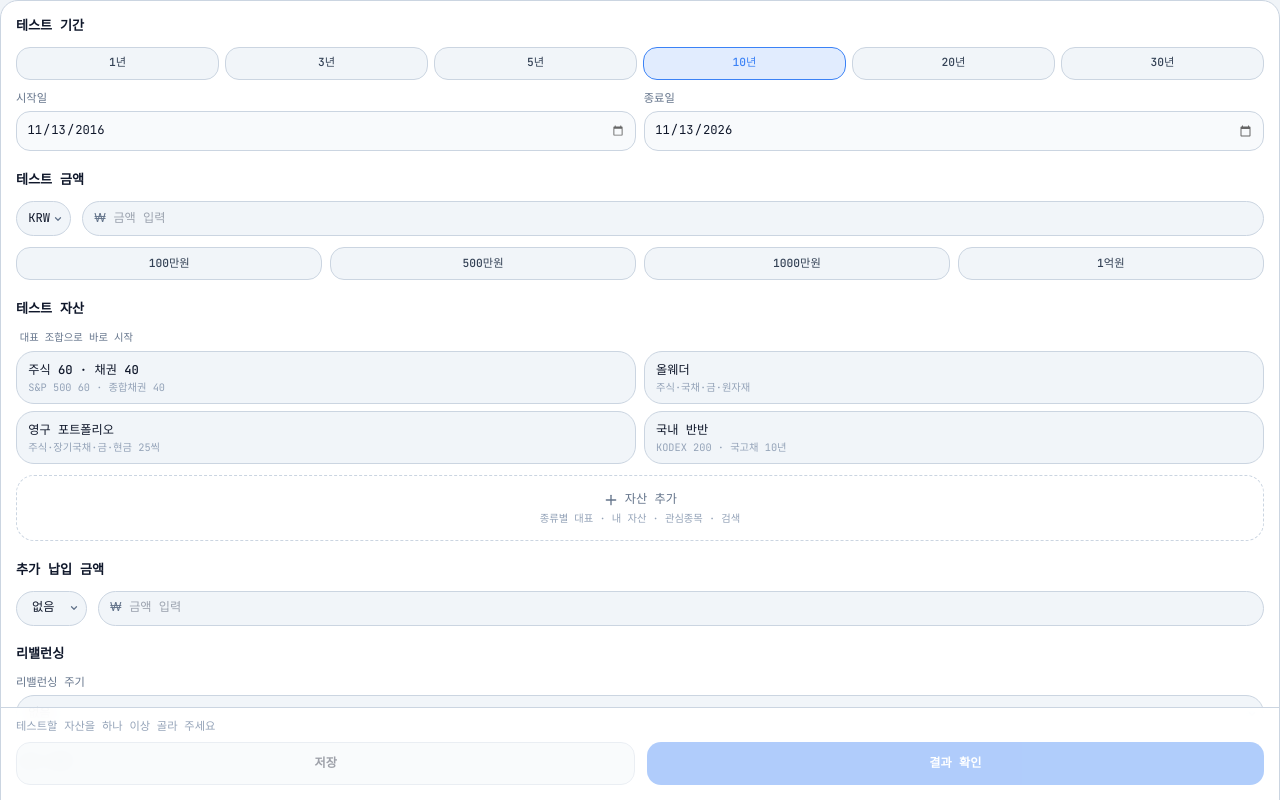
환율을 실제로 받아 쓰고, 그 값을 적는다 › 비중에 쓴 환율을 화면에 적는다
Click the button labelled "자산 추가 종류별 대표 · 내 자산 · 관심종목 · 검색". click: click(640, 508)
box: top-left (16, 475), bottom-right (1264, 541)
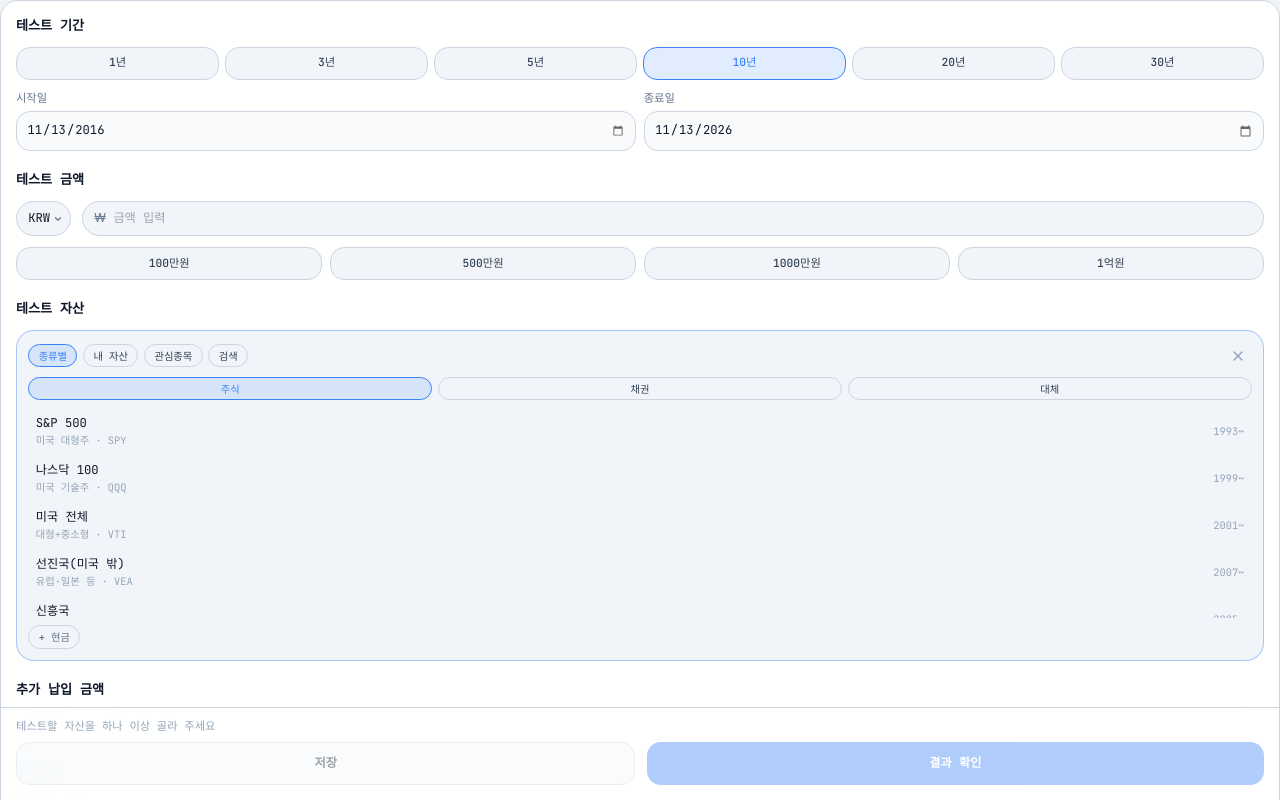
Click the button with aria-label "내 자산에서". click: click(111, 356)
box: top-left (83, 344), bottom-right (138, 367)
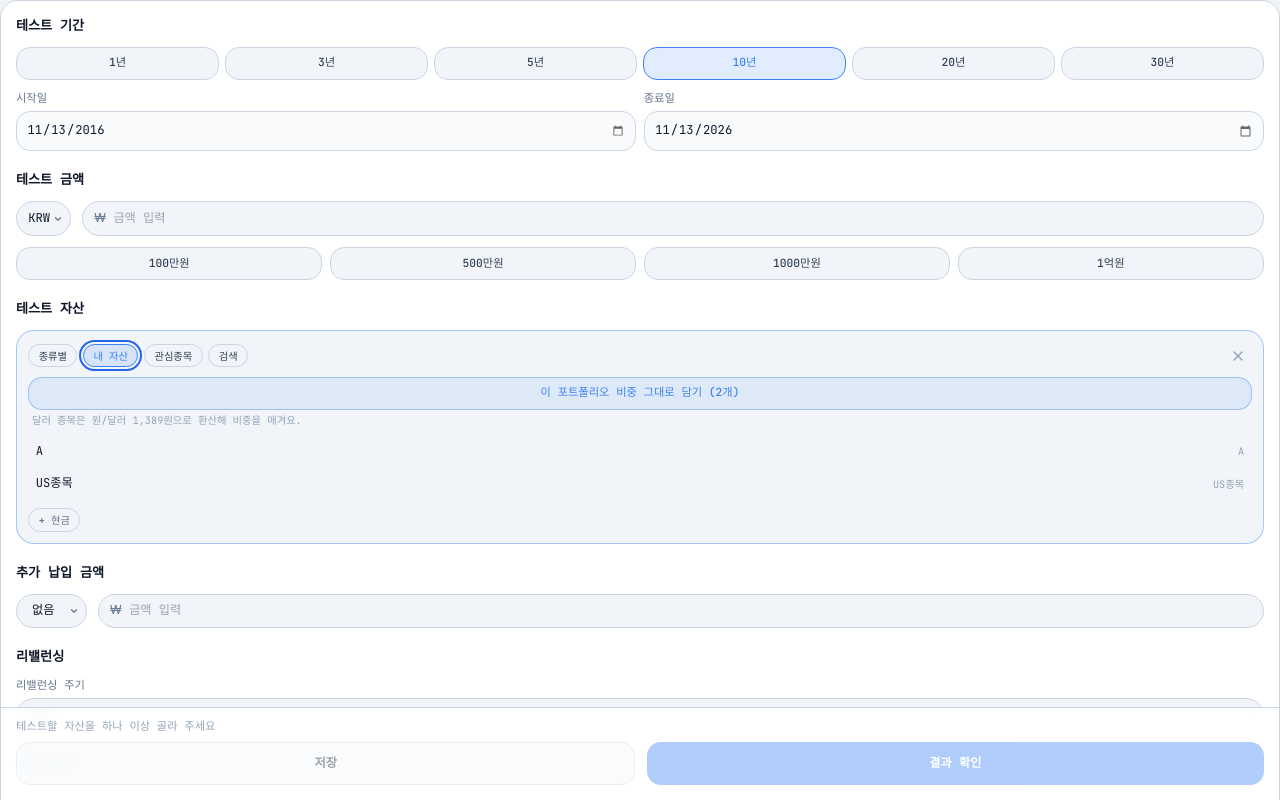
Result: the text "달러 종목은 원/달러 1,389원으로 환산해 비중을 매겨요." is shown at top-left (32, 413), bottom-right (302, 427)
